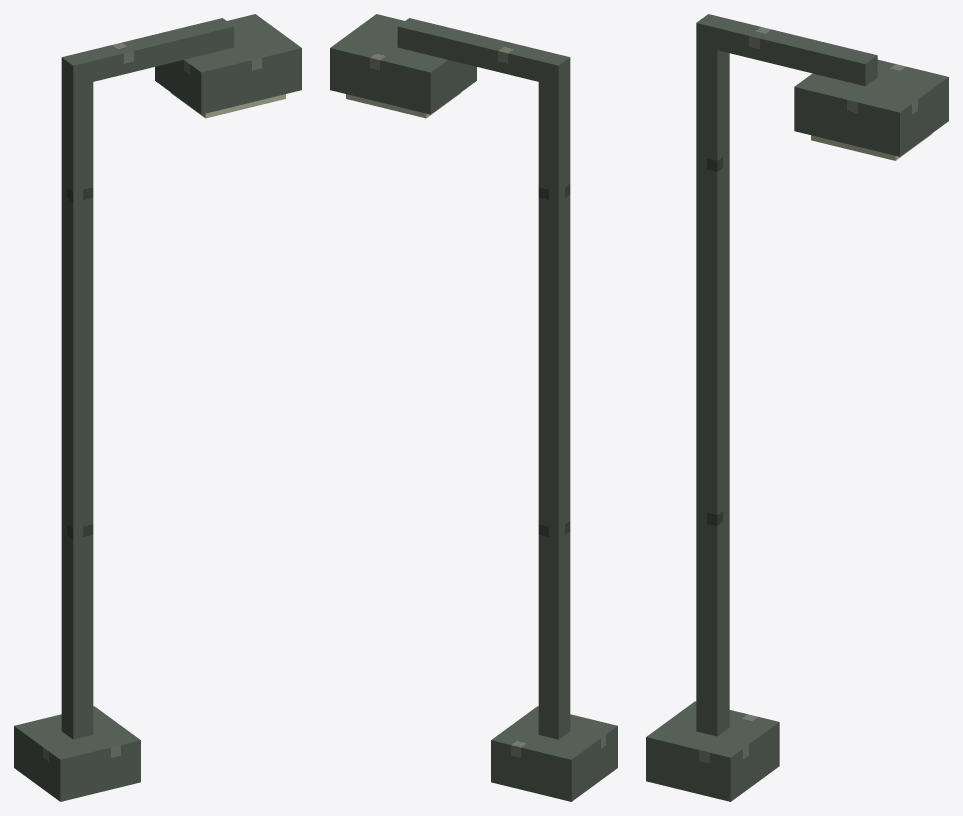
The model's file is street_lamp.gltf.
3 views of the same model, side by side, from view 1: azimuth 30°, elevation 25°; view 2: azimuth 150°, elevation 25°; view 3: azimuth 330°, elevation 25° (orthographic). The views are drawn at different scales.
Parts seen in each view (by area): view 1: pole, shade, base, arm; view 2: pole, shade, base, arm; view 3: pole, shade, base, arm, lamp.
Part boxes in pixels (x1,y1,x2,y2): pole: (61,78,93,739); shade: (155,14,301,114); base: (14,706,140,801); arm: (61,18,234,86); pole: (538,78,570,739); shade: (330,14,476,114); base: (491,706,617,801); arm: (397,18,570,86); pole: (696,45,729,736); shade: (794,59,948,156); base: (646,701,779,801); arm: (696,14,877,86); lamp: (811,133,932,160).
Bounding box in the file's own units: 1.5 × 4.25 × 0.5.
Materials: 2 (2 with a texture image).
